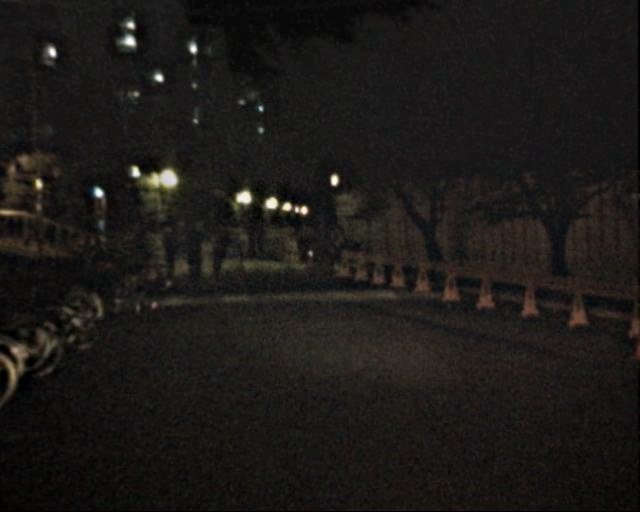person: (187, 225, 210, 280), (208, 225, 230, 279), (132, 218, 154, 271), (330, 225, 351, 276), (161, 222, 180, 268), (175, 215, 193, 259), (244, 219, 259, 255), (253, 221, 268, 257)
